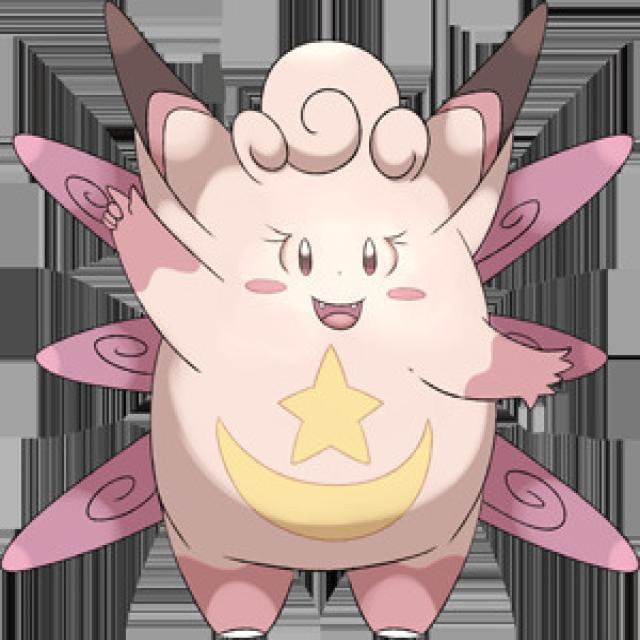Clefable: (79, 39, 571, 640)
